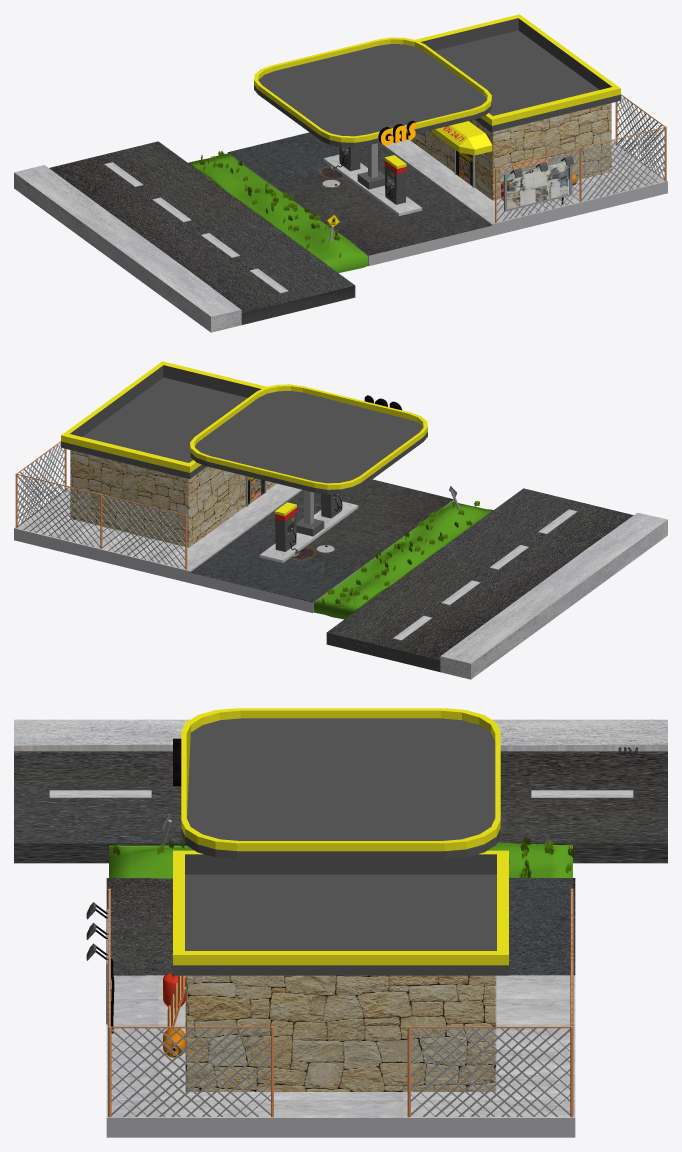
3 views of the same model, one above another, from view 1: azimuth 30°, elevation 25°; view 2: azimuth 150°, elevation 25°; view 3: azimuth 270°, elevation 25° (orthographic). The views are drawn at different scales.
Parts seen in each view (by area): view 1: road_0, station ground_4, Cube_22, station roof_3, grass_1, bilboard_33, fence.001_26, fence.005_30, Plane_24, fence_25, fuel pump 1_9, gas_sign_5 (+1 smaller); view 2: road_0, station ground_4, Cube_22, station roof_3, grass_1, fence.002_27, fence.003_28, fence.004_29, fuel pump 2_13, Cube.002_23; view 3: Cube_22, station roof_3, station ground_4, road_0, fence.004_29, fence.005_30, grass_1, bilboard_33.
Boxes of the visible parts, box(x1,y1,x2,y2) form: road_0: box(14, 141, 355, 332); station ground_4: box(227, 132, 667, 265); Cube_22: box(410, 14, 620, 200); station roof_3: box(254, 37, 491, 189); grass_1: box(188, 151, 368, 272); bilboard_33: box(504, 155, 573, 211); fence.001_26: box(581, 126, 666, 201); fence.005_30: box(615, 94, 664, 178); Plane_24: box(431, 121, 492, 155); fence_25: box(495, 147, 581, 222); fuel pump 1_9: box(384, 155, 406, 204); gas_sign_5: box(378, 120, 415, 145); road_0: box(326, 488, 667, 679); station ground_4: box(14, 479, 454, 612); Cube_22: box(61, 361, 276, 547); station roof_3: box(190, 384, 427, 536); grass_1: box(313, 501, 493, 619); fence.002_27: box(100, 494, 187, 569); fence.003_28: box(16, 473, 100, 548); fence.004_29: box(15, 441, 66, 527); fuel pump 2_13: box(275, 502, 296, 551); Cube.002_23: box(245, 476, 266, 506); Cube_22: box(173, 850, 508, 1091); station roof_3: box(181, 708, 500, 859); station ground_4: box(106, 878, 575, 1137); road_0: box(14, 719, 667, 863); fence.004_29: box(407, 1026, 572, 1117); fence.005_30: box(109, 1026, 273, 1117); grass_1: box(109, 836, 575, 878); bilboard_33: box(86, 902, 108, 1024).
Size of the model in its own units: 63.5 by 14.25 by 44.71.
24 materials, 8 textured.
